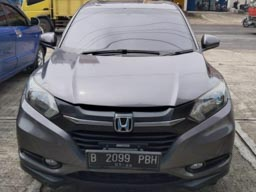plat: (87, 151, 160, 164)
